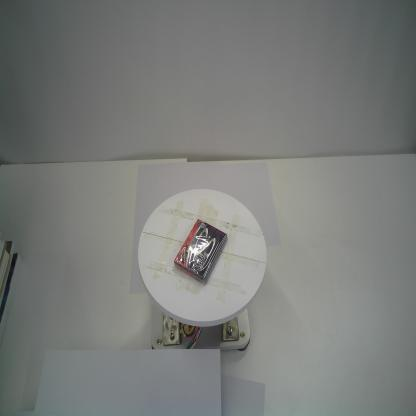Gum: (174, 218, 228, 286)
